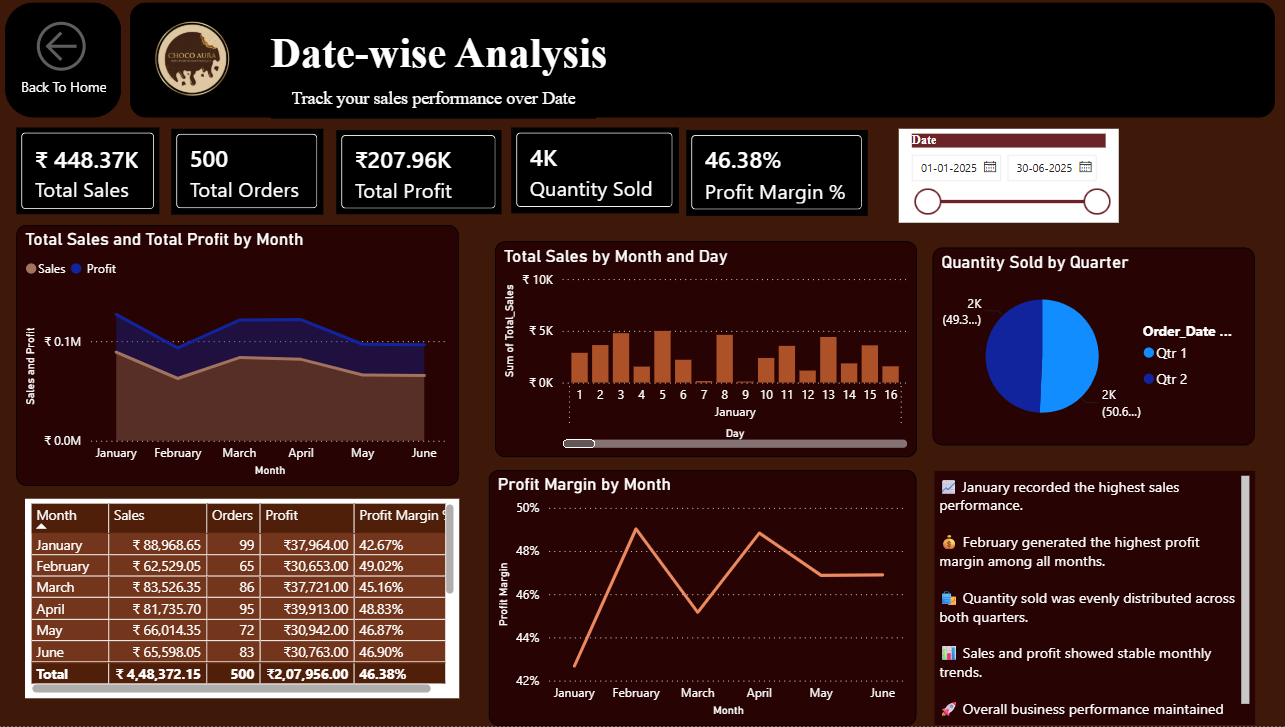

Layout of this report page (visuals, bound fields, positions):
{"tool":"powerbi","page":{"name":"Date-wise analysis","canvas":[1280,720],"ordinal":1},"visuals":[{"type":"shape","box":[14.7,12.2,113.7,112.5],"z":0},{"type":"shape","box":[23.2,77,97.8,34.2],"z":1000},{"type":"actionButton","box":[39.1,24.5,66,61.1],"z":2000},{"type":"shape","box":[137.5,12.5,1120,112.5],"z":3000},{"type":"image","box":[121.1,0,154.1,134.5],"z":4000},{"type":"shape","box":[251.9,24.5,374.2,74.6],"z":5000},{"type":"shape","box":[275,85,317.5,40],"z":6000},{"type":"cardVisual","fields":{"Data":["Sum(Sales_Data.Total_Sales)"]},"box":[26.2,135,140,85],"z":7000},{"type":"cardVisual","fields":{"Data":["Sales_Data.Total Orders"]},"box":[177.5,136.2,148.8,83.8],"z":8000},{"type":"cardVisual","fields":{"Data":["Sales_Data.Total Profit"]},"box":[338.8,137.5,161.2,82.5],"z":9000},{"type":"cardVisual","fields":{"Data":["Sales_Data.Total Quantity Sold"]},"box":[510,135,163.8,83.8],"z":10000},{"type":"slicer","fields":{"Values":["Sales_Data.Order_Date"]},"box":[888.8,136.2,215,91.2],"z":11000},{"type":"cardVisual","fields":{"Data":["Sales_Data.Profit Margin %"]},"box":[681.2,137.5,177.5,83.8],"z":12000},{"type":"stackedAreaChart","title":"Total Sales and Total Profit by Month","fields":{"Category":["Sales_Data.Order_Date.Variation.Date Hierarchy.Month"],"Y":["Sum(Sales_Data.Total_Sales)","Sales_Data.Total Profit"]},"box":[26.2,230,432.5,255],"z":13000},{"type":"columnChart","title":"Total Sales by Month and Day","fields":{"Y":["Sum(Sales_Data.Total_Sales)"],"Category":["Sales_Data.Order_Date.Variation.Date Hierarchy.Month","Sales_Data.Order_Date.Variation.Date Hierarchy.Day"]},"box":[493.8,246.2,412.5,211.2],"z":14000},{"type":"tableEx","fields":{"Values":["Sales_Data.Order_Date.Variation.Date Hierarchy.Month","Sum(Sales_Data.Total_Sales)","Sales_Data.Total Orders","Sales_Data.Total Profit","Sales_Data.Profit Margin %"]},"box":[33.8,497.5,425,195],"z":15000},{"type":"lineChart","fields":{"Y":["Sales_Data.Profit Margin"],"Category":["Sales_Data.Order_Date.Variation.Date Hierarchy.Month"]},"box":[487.5,470,418.8,250],"z":16000},{"type":"pieChart","fields":{"Category":["Sales_Data.Order_Date.Variation.Date Hierarchy.Quarter"],"Y":["Sales_Data.Total Quantity Sold"]},"box":[922.5,252.5,315,193.8],"z":17000},{"type":"textbox","box":[923,470,315,250],"z":18000}]}

Visuals, with their boxes in screenshot pixels (x1, y1, x2, y2), scaled from the page's 1280x720 canvas onto the 1285x727 screenshot:
shape: [15,12,129,126]
shape: [23,78,121,112]
actionButton: [39,25,106,86]
shape: [138,13,1262,126]
image: [122,0,276,136]
shape: [253,25,629,100]
shape: [276,86,595,126]
cardVisual - Sum(Sales_Data.Total_Sales): [26,136,167,222]
cardVisual - Sales_Data.Total Orders: [178,138,328,222]
cardVisual - Sales_Data.Total Profit: [340,139,502,222]
cardVisual - Sales_Data.Total Quantity Sold: [512,136,676,221]
slicer - Sales_Data.Order_Date: [892,138,1108,230]
cardVisual - Sales_Data.Profit Margin %: [684,139,862,223]
"Total Sales and Total Profit by Month" stackedAreaChart: [26,232,460,490]
"Total Sales by Month and Day" columnChart: [496,249,910,462]
tableEx - Sales_Data.Order_Date.Variation.Date Hierarchy.Month x Sum(Sales_Data.Total_Sales): [34,502,461,699]
lineChart - Sales_Data.Profit Margin x Sales_Data.Order_Date.Variation.Date Hierarchy.Month: [489,475,910,726]
pieChart - Sales_Data.Order_Date.Variation.Date Hierarchy.Quarter x Sales_Data.Total Quantity Sold: [926,255,1242,451]
textbox: [927,475,1243,726]
